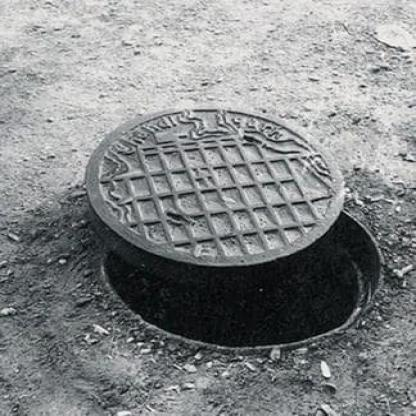open manhole-not overflowing-: (106, 188, 387, 354)
